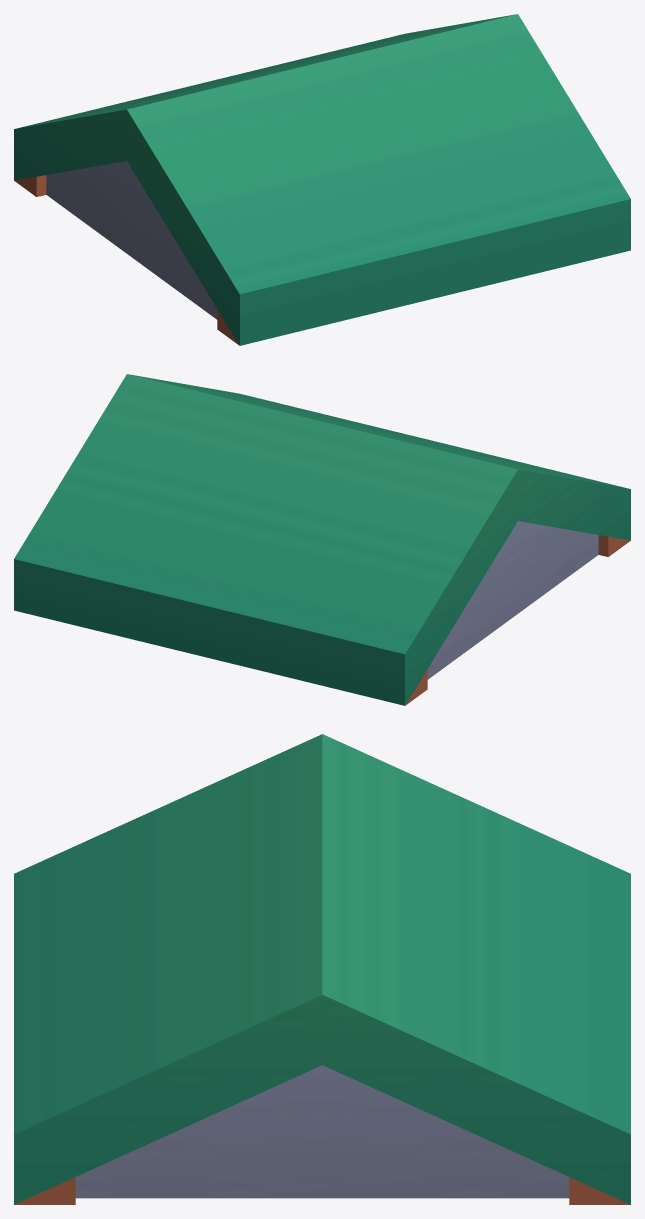
Rendered from roofGableTop.fbx.
3 views of the same model, one above another, from view 1: azimuth 30°, elevation 25°; view 2: azimuth 150°, elevation 25°; view 3: azimuth 270°, elevation 25° (orthographic). The views are drawn at different scales.
Visible parts, largest first — view 1: roofGableTop; view 2: roofGableTop; view 3: roofGableTop.
Boxes of the visible parts, left/top/right/bottom form: roofGableTop: left=14, top=14, right=630, bottom=345; roofGableTop: left=14, top=374, right=630, bottom=705; roofGableTop: left=14, top=734, right=630, bottom=1204.
Bounding box in the file's own units: 1 × 1 × 0.3759.
